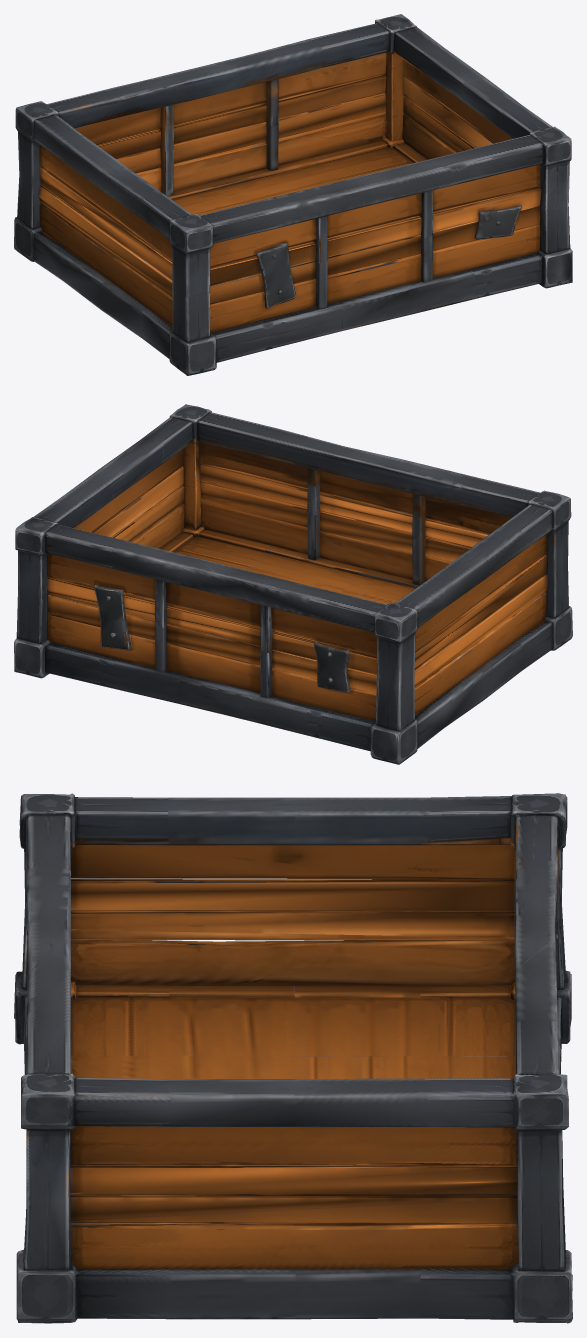
File: Ironbound_Wooden_Crate_01.fbx
The picture shows the model from 3 angles, top to bottom: view 1: azimuth 30°, elevation 25°; view 2: azimuth 150°, elevation 25°; view 3: azimuth 270°, elevation 25°; orthographic projection. The views are drawn at different scales.
Parts seen in each view (by area): view 1: mesh_node; view 2: mesh_node; view 3: mesh_node.
Boxes of the visible parts, left/top/right/bottom form: mesh_node: left=14, top=14, right=572, bottom=375; mesh_node: left=14, top=404, right=572, bottom=764; mesh_node: left=14, top=793, right=572, bottom=1323.
Size of the model in its own units: 100 by 36.13 by 78.71.
1 material, 1 textured.
